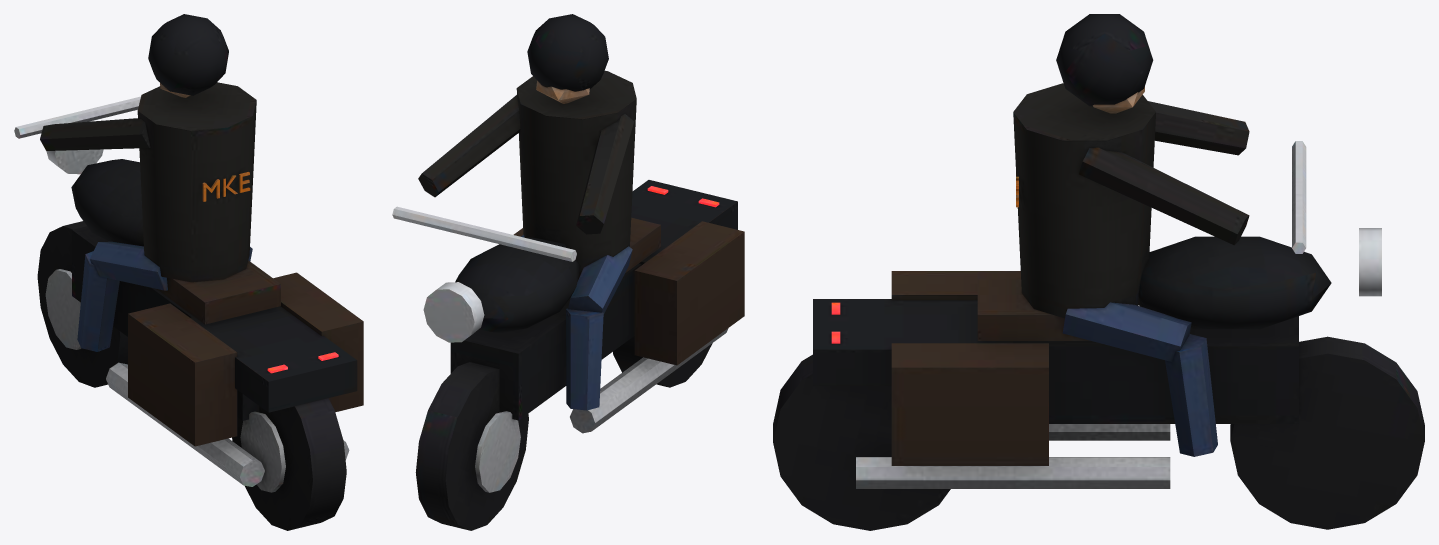
Rendered from moto_harley.glb.
3 renders of one model, left to right at view 1: azimuth 30°, elevation 25°; view 2: azimuth 150°, elevation 25°; view 3: azimuth 270°, elevation 25°, orthographic. The views are drawn at different scales.
Visible parts, largest first — view 1: moto_harley; view 2: moto_harley; view 3: moto_harley.
Part boxes in pixels (x1,y1,x2,y2): moto_harley: [14, 14, 363, 530]; moto_harley: [392, 14, 744, 530]; moto_harley: [773, 14, 1424, 530].
Size of the model in its own units: 0.8741 by 1.95 by 2.28.
Materials: 1 (1 with a texture image).
